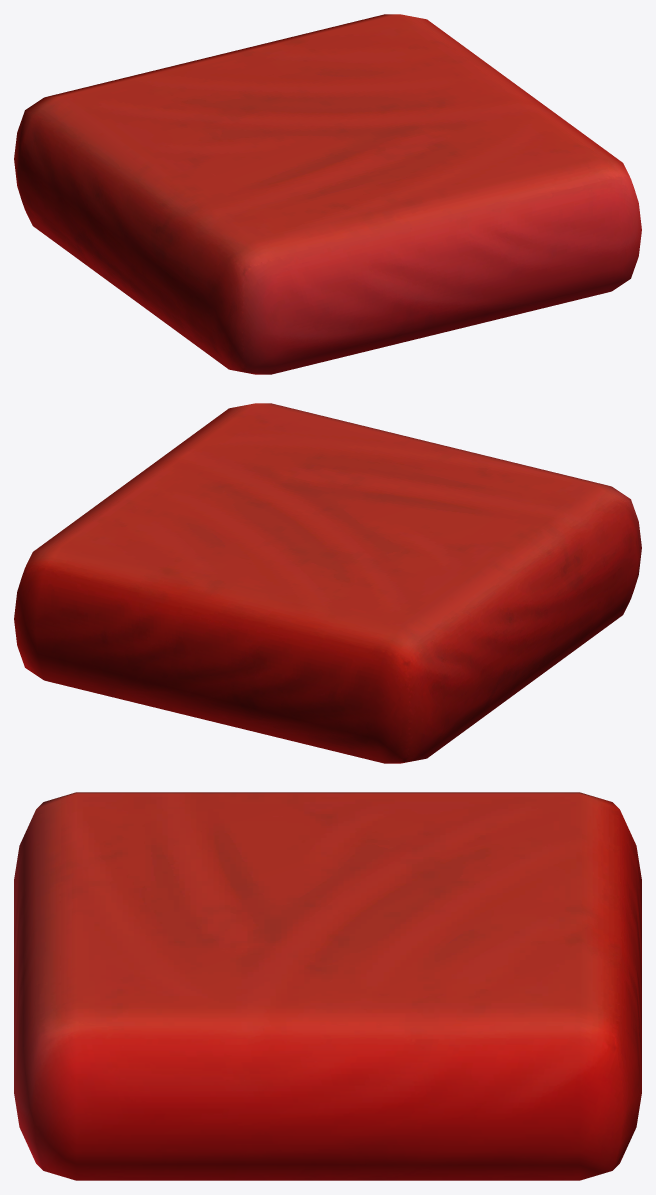
File: SM_Jump_Pad_2m_01.glb
3 renders of one model, top to bottom at view 1: azimuth 30°, elevation 25°; view 2: azimuth 150°, elevation 25°; view 3: azimuth 270°, elevation 25°, orthographic. The views are drawn at different scales.
Parts seen in each view (by area): view 1: SM_Jump_Pad_2m_01; view 2: SM_Jump_Pad_2m_01; view 3: SM_Jump_Pad_2m_01.
Part boxes in pixels (left/top/right/bottom): SM_Jump_Pad_2m_01: left=14, top=14, right=641, bottom=374; SM_Jump_Pad_2m_01: left=14, top=403, right=641, bottom=763; SM_Jump_Pad_2m_01: left=14, top=792, right=641, bottom=1180.
Size of the model in its own units: 1.98 by 0.6 by 1.98.
Materials: 1 (1 with a texture image).
